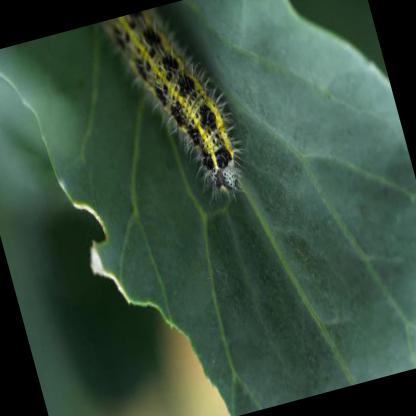pieris: (105, 14, 241, 192)
